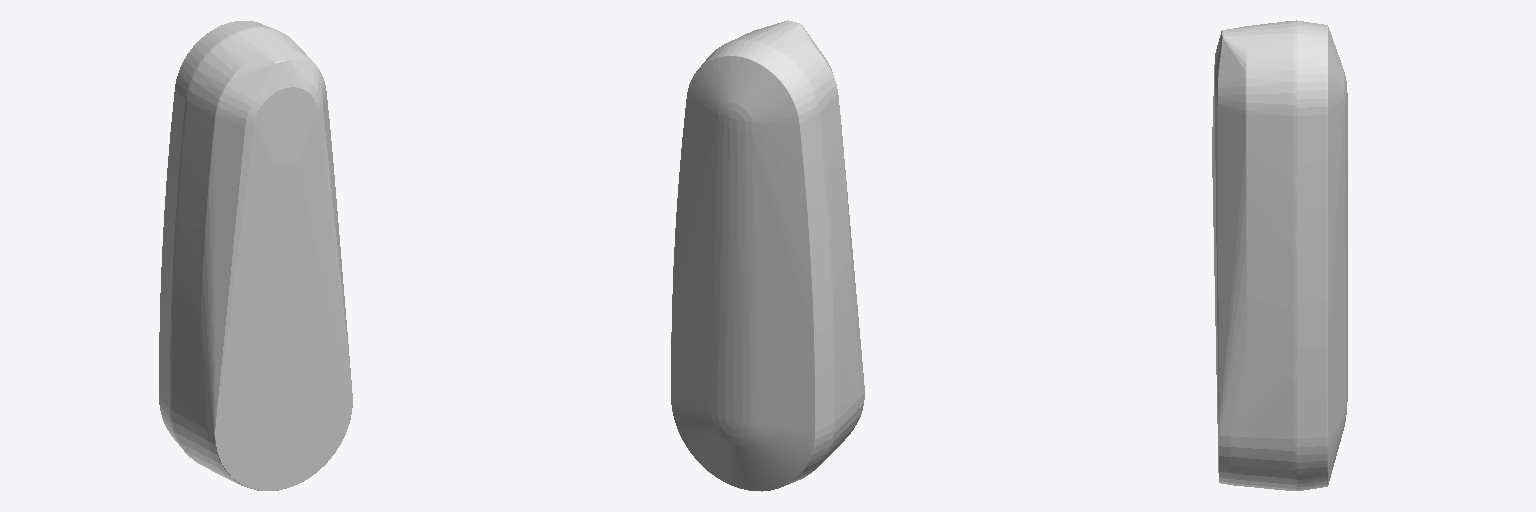
The robot description file, URDF, robot "m430ia2f":
<?xml version="1.0" ?>
<!-- =================================================================================== -->
<!-- |    This document was autogenerated by xacro from m430ia2f.xacro                 | -->
<!-- |    EDITING THIS FILE BY HAND IS NOT RECOMMENDED                                 | -->
<!-- =================================================================================== -->
<robot name="m430ia2f" xmlns:xacro="http://ros.org/wiki/xacro">
  <link name="base_link">
    <visual>
      <origin rpy="0 0 0" xyz="0 0 0"/>
      <geometry>
        <mesh filename="package://fanuc_config/meshes/m430ia2f/visual/base_link.stl"/>
      </geometry>
      <material name="white">
        <color rgba="1 1 1 1"/>
      </material>
    </visual>
    <collision>
      <origin rpy="0 0 0" xyz="0 0 0"/>
      <geometry>
        <mesh filename="package://fanuc_config/meshes/m430ia2f/collision/base_link.stl"/>
      </geometry>
    </collision>
  </link>
  <link name="link_1">
    <visual>
      <origin rpy="0 0 0" xyz="0 0 0"/>
      <geometry>
        <mesh filename="package://fanuc_config/meshes/m430ia2f/visual/link_1.stl"/>
      </geometry>
      <material name="">
        <color rgba="0.89804 0.89804 0.89804 1"/>
      </material>
    </visual>
    <collision>
      <origin rpy="0 0 0" xyz="0 0 0"/>
      <geometry>
        <mesh filename="package://fanuc_config/meshes/m430ia2f/collision/link_1.stl"/>
      </geometry>
    </collision>
  </link>
  <link name="link_2">
    <visual>
      <origin rpy="0 0 0" xyz="0 0 0"/>
      <geometry>
        <mesh filename="package://fanuc_config/meshes/m430ia2f/visual/link_2.stl"/>
      </geometry>
      <material name="">
        <color rgba="0.89804 0.89804 0.89804 1"/>
      </material>
    </visual>
    <collision>
      <origin rpy="0 0 0" xyz="0 0 0"/>
      <geometry>
        <mesh filename="package://fanuc_config/meshes/m430ia2f/collision/link_2.stl"/>
      </geometry>
    </collision>
  </link>
  <link name="link_3">
    <visual>
      <origin rpy="0 0 0" xyz="0 0 0.053"/>
      <geometry>
        <mesh filename="package://fanuc_config/meshes/m430ia2f/visual/link_3.stl"/>
      </geometry>
      <material name="">
        <color rgba="0.89804 0.89804 0.89804 1"/>
      </material>
    </visual>
    <collision>
      <origin rpy="0 0 0" xyz="0 0 0.053"/>
      <geometry>
        <mesh filename="package://fanuc_config/meshes/m430ia2f/collision/link_3.stl"/>
      </geometry>
    </collision>
  </link>
  <link name="link_4">
    <visual>
      <origin rpy="0 0 0" xyz="0 0 0"/>
      <geometry>
        <mesh filename="package://fanuc_config/meshes/m430ia2f/visual/link_4.stl"/>
      </geometry>
      <material name="">
        <color rgba="0.89804 0.89804 0.89804 1"/>
      </material>
    </visual>
    <collision>
      <origin rpy="0 0 0" xyz="0 0 0"/>
      <geometry>
        <mesh filename="package://fanuc_config/meshes/m430ia2f/collision/link_4.stl"/>
      </geometry>
    </collision>
  </link>
  <link name="link_5">
    <visual>
      <origin rpy="0 0 0" xyz="0 0 0"/>
      <geometry>
        <mesh filename="package://fanuc_config/meshes/m430ia2f/visual/link_5.stl"/>
      </geometry>
      <material name="">
        <color rgba="0.75294 0.75294 0.75294 1"/>
      </material>
    </visual>
    <collision>
      <origin rpy="0 0 0" xyz="0 0 0"/>
      <geometry>
        <mesh filename="package://fanuc_config/meshes/m430ia2f/collision/link_5.stl"/>
      </geometry>
    </collision>
  </link>
  <link name="tool0"/>
  <joint name="joint_1" type="revolute">
    <origin rpy="0 0 0" xyz="-6.0758E-19 1.2493E-16 0.44"/>
    <parent link="base_link"/>
    <child link="link_1"/>
    <axis xyz="0 0 1"/>
    <limit effort="0" lower="-3.1415" upper="3.1415" velocity="5.23598775598"/>
  </joint>
  <joint name="joint_2" type="revolute">
    <origin rpy="0 0 0" xyz="-1.4097E-17 0.171 -4.4409E-16"/>
    <parent link="link_1"/>
    <child link="link_2"/>
    <axis xyz="0 1 0"/>
    <limit effort="0" lower="-2.00707" upper="2.00707" velocity="5.58505360638"/>
  </joint>
  <joint name="joint_3" type="revolute">
    <!-- origin xyz="1.2197E-19 -0.171 0.403" rpy="0 0 0" / -->
    <origin rpy="0 0 0" xyz="1.2197E-19 -0.171 0.350"/>
    <parent link="link_2"/>
    <child link="link_3"/>
    <axis xyz="0 1 0"/>
    <limit effort="0" lower="-1.771457" upper="1.771457" velocity="5.58505360638"/>
  </joint>
  <joint name="joint_4" type="revolute">
    <!-- origin xyz="-2.6075E-17 -0.06 0.497" rpy="0 0 0" / -->
    <origin rpy="0 0 0" xyz="-2.6075E-17 -0.06 0.55"/>
    <parent link="link_3"/>
    <child link="link_4"/>
    <axis xyz="0 1 0"/>
    <limit effort="0" lower="-2.617917" upper="2.617917" velocity="6.28318530718"/>
  </joint>
  <joint name="joint_5" type="revolute">
    <origin rpy="0 0 0" xyz="1.4734E-16 -0.035 0.065"/>
    <parent link="link_4"/>
    <child link="link_5"/>
    <axis xyz="0 0 1"/>
    <limit effort="0" lower="-4.71225" upper="4.71225" velocity="20.9439510239"/>
  </joint>
  <joint name="joint_5-tool0" type="fixed">
    <parent link="link_5"/>
    <child link="tool0"/>
    <origin rpy="0 0 0" xyz="0 0 0"/>
  </joint>
</robot>

--- What the picture shows (computed from the rendered views, not written in the file) ---
The picture shows the robot from 3 angles, left to right: view 1: azimuth 30°, elevation 25°; view 2: azimuth 150°, elevation 25°; view 3: azimuth 270°, elevation 25°; orthographic projection.
Robot: m430ia2f — 7 links, 6 joints (5 revolute, 1 fixed); root link base_link; default pose: all joints at 0.
Links seen in each view (by area): view 1: link_2; view 2: link_2; view 3: link_2.
Link boxes in pixels (<box>): link_2: <box>159,21,352,490</box>; link_2: <box>671,20,864,491</box>; link_2: <box>1212,20,1347,490</box>.
Bounding box of the posed robot: 0.1881 × 0.1396 × 0.519 m (x, y, z).
1 mesh visuals loaded from 6 distinct referenced files (1 binary STL); not drawn: 5 (reference not matched to a file when rendering).